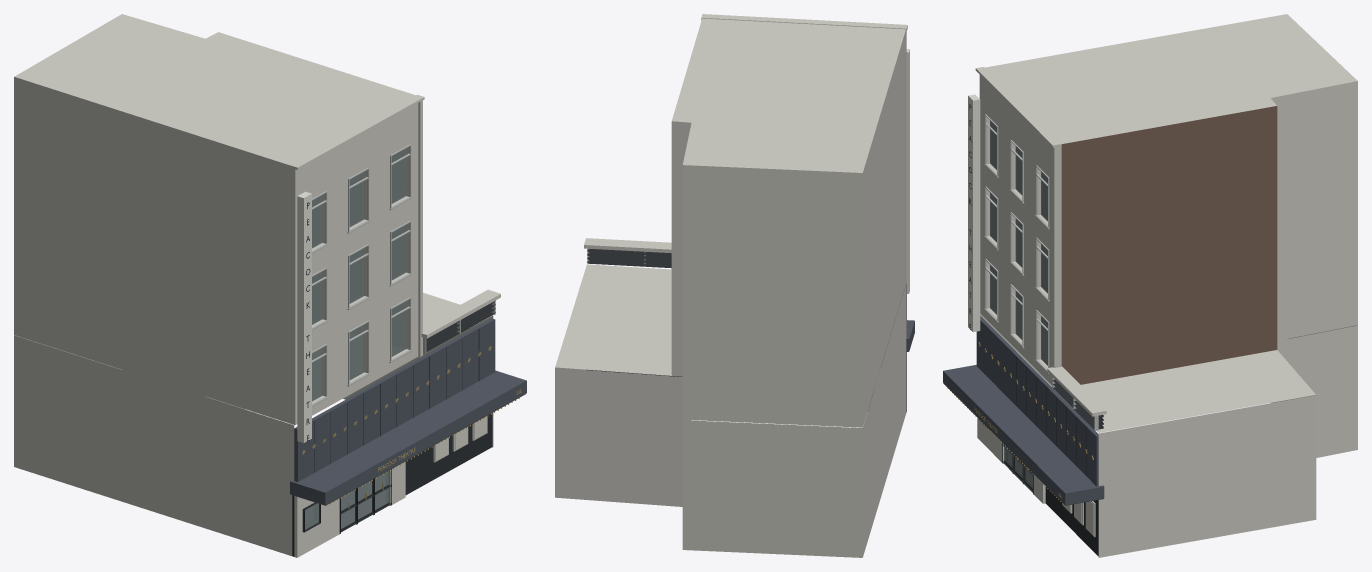
File: pea-exterior-be1c3610075e.glb
3 views of the same model, side by side, from view 1: azimuth 30°, elevation 25°; view 2: azimuth 150°, elevation 25°; view 3: azimuth 270°, elevation 25° (orthographic). The views are drawn at different scales.
Visible parts, largest first — view 1: PEA.001; view 2: PEA.001; view 3: PEA.001.
Boxes of the visible parts, <box> form: PEA.001: <box>14,14,526,557</box>; PEA.001: <box>555,14,914,557</box>; PEA.001: <box>943,14,1357,557</box>.
Size of the model in its own units: 20.67 by 19.53 by 19.87.
